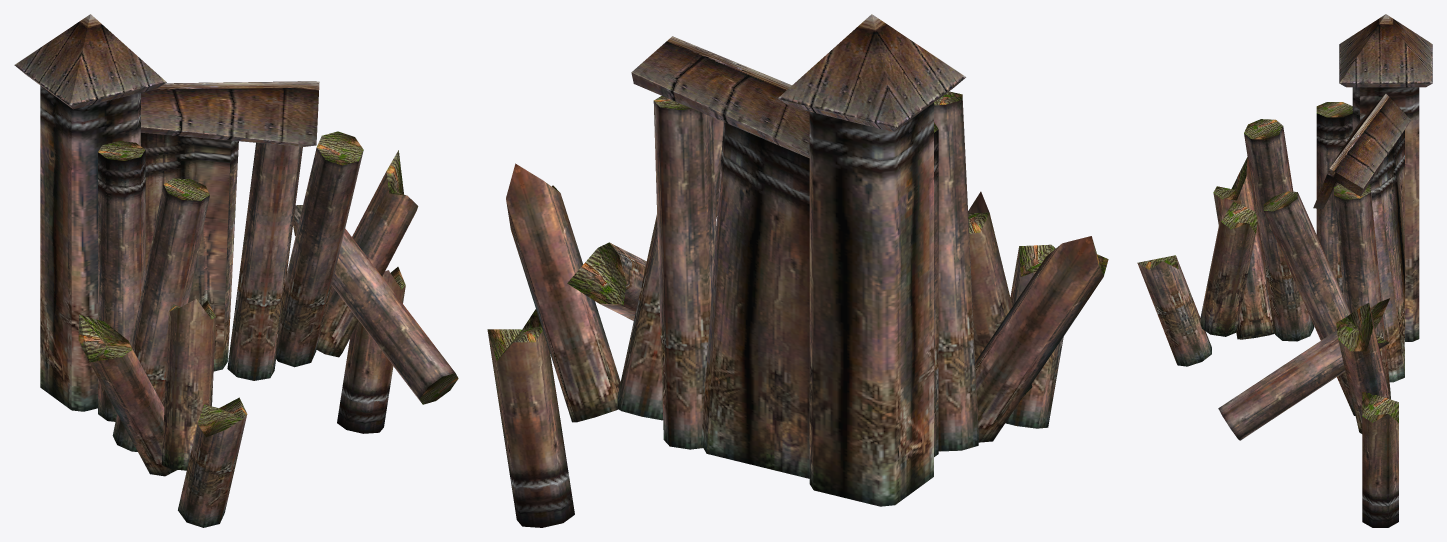
File: S_RFCrn2.glb
The picture shows the model from 3 angles, left to right: view 1: azimuth 30°, elevation 25°; view 2: azimuth 150°, elevation 25°; view 3: azimuth 270°, elevation 25°; orthographic projection. The views are drawn at different scales.
Parts seen in each view (by area): view 1: S_RFCrn2; view 2: S_RFCrn2; view 3: S_RFCrn2.
Boxes of the visible parts, left/top/right/bottom form: S_RFCrn2: left=14, top=14, right=458, bottom=527; S_RFCrn2: left=487, top=14, right=1108, bottom=527; S_RFCrn2: left=1137, top=14, right=1432, bottom=527.
Bounding box in the file's own units: 5.28 × 5.92 × 3.98.
4 materials, 4 textured.
